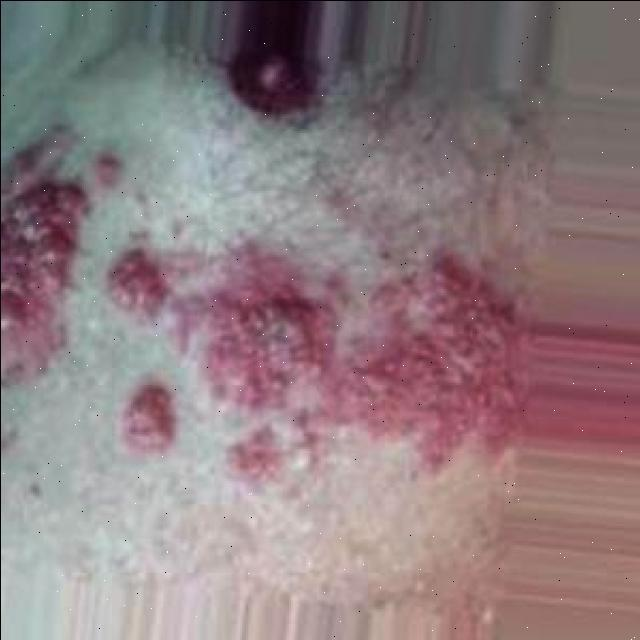Shingles: (107, 240, 516, 483), (0, 182, 90, 385)
